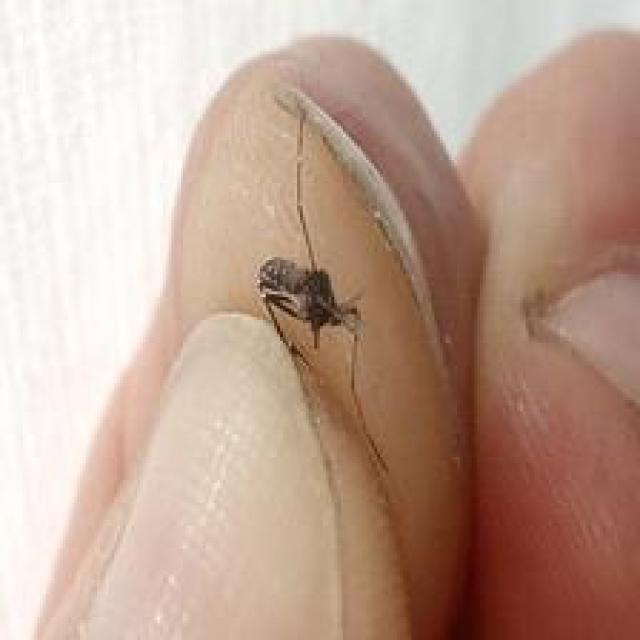Aedes albopictus: (255, 90, 394, 484)
